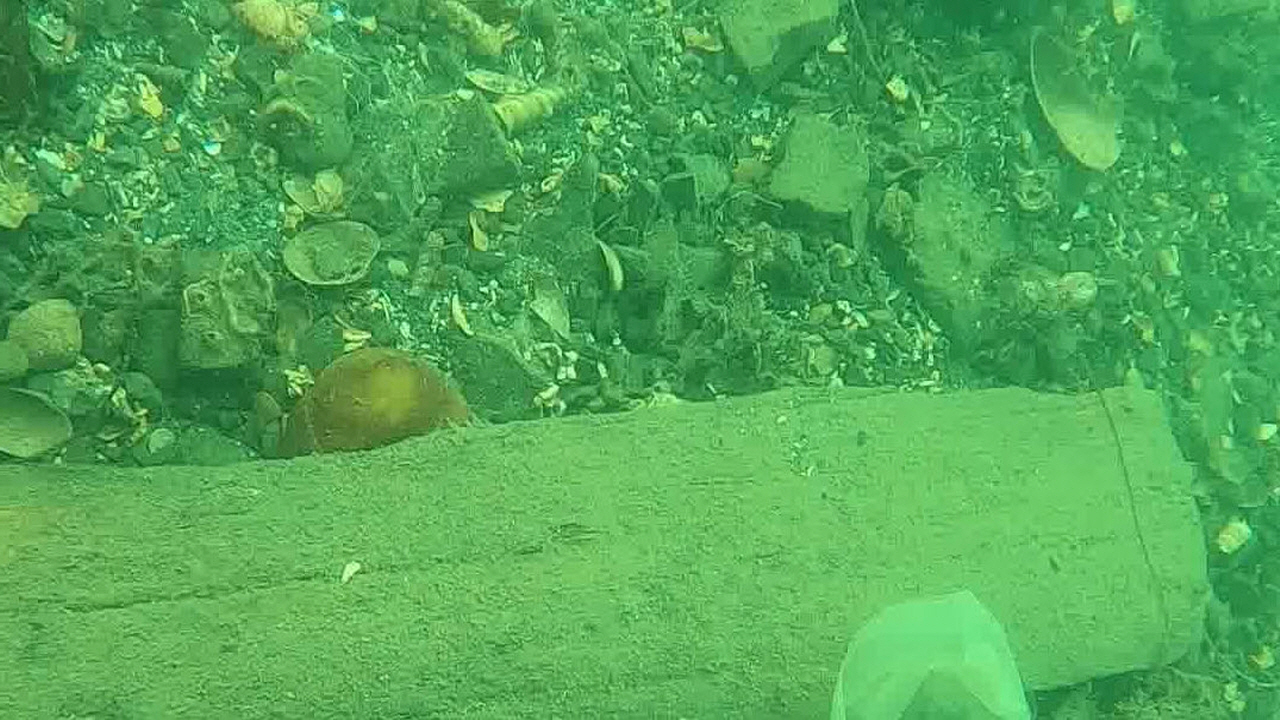wood: (0, 384, 1204, 720)
